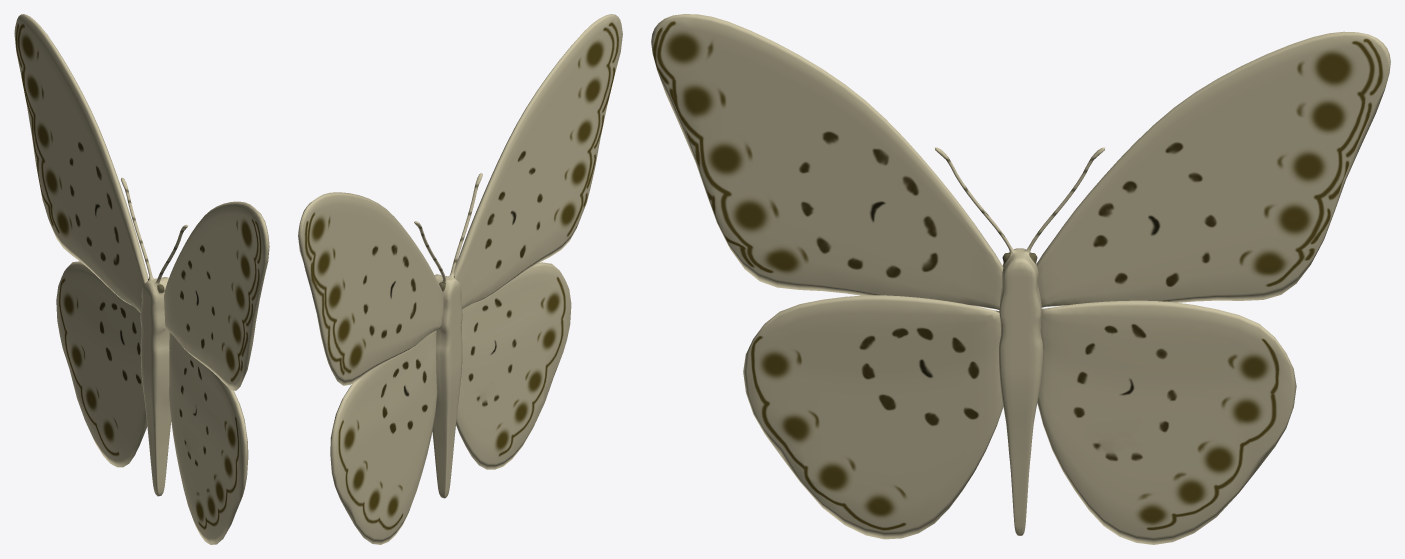
File: ButterflyModel_Pseudozizeeria.fbx
3 renders of one model, left to right at view 1: azimuth 30°, elevation 25°; view 2: azimuth 150°, elevation 25°; view 3: azimuth 270°, elevation 25°, orthographic. The views are drawn at different scales.
Visible parts, largest first — view 1: polySurface4, polySurface2, polySurface3; view 2: polySurface2, polySurface4, polySurface3; view 3: polySurface4, polySurface2, polySurface3.
Boxes of the visible parts, x1=… form: polySurface4: x1=14, y1=14, x2=148, y2=467; polySurface2: x1=164, y1=201, x2=269, y2=544; polySurface3: x1=121, y1=178, x2=188, y2=496; polySurface2: x1=454, y1=14, x2=622, y2=469; polySurface4: x1=298, y1=192, x2=443, y2=544; polySurface3: x1=414, y1=173, x2=482, y2=498; polySurface4: x1=1036, y1=31, x2=1390, y2=544; polySurface2: x1=651, y1=14, x2=1003, y2=539; polySurface3: x1=935, y1=147, x2=1104, y2=535.
Bounding box in the file's own units: 1.37 × 11 × 14.45.
1 material, 1 textured.
